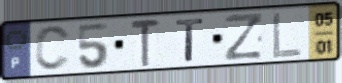5: (76, 21, 110, 71)
C: (33, 24, 73, 73)
L: (271, 10, 304, 61)
T: (128, 19, 162, 69), (174, 17, 207, 64)
Z: (223, 11, 265, 63)
